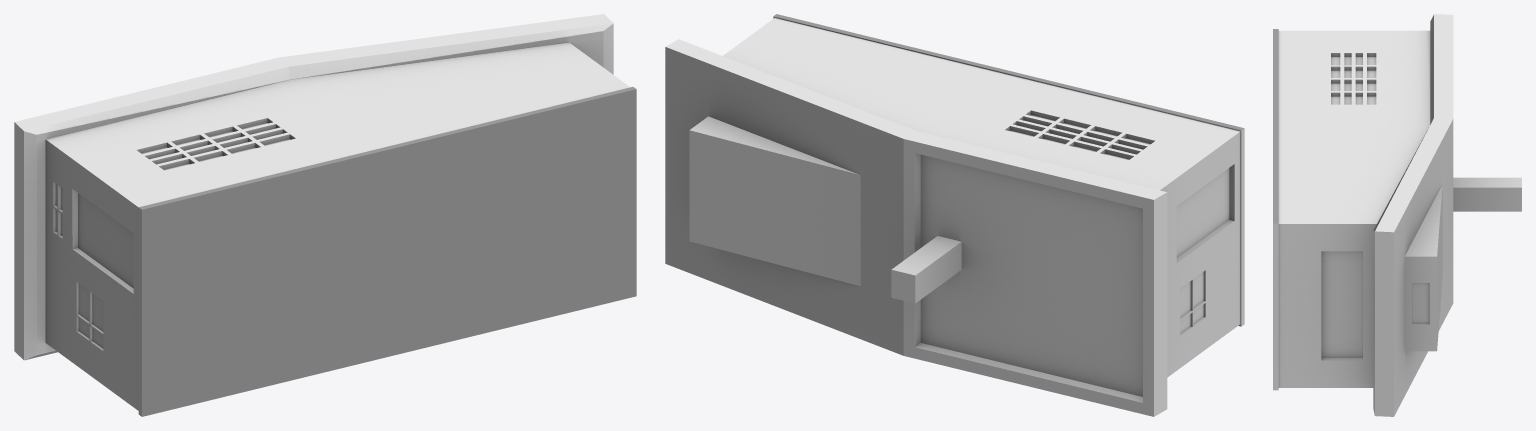
File: Администрация.fbx
3 renders of one model, left to right at view 1: azimuth 30°, elevation 25°; view 2: azimuth 150°, elevation 25°; view 3: azimuth 270°, elevation 25°, orthographic. The views are drawn at different scales.
Visible parts, largest first — view 1: Администрация.001; view 2: Администрация.001; view 3: Администрация.001.
Boxes of the visible parts, <box> form: Администрация.001: <box>14,14,636,416</box>; Администрация.001: <box>665,14,1244,416</box>; Администрация.001: <box>1273,14,1521,416</box>.
Bounding box in the file's own units: 67.39 × 32.44 × 26.59.
